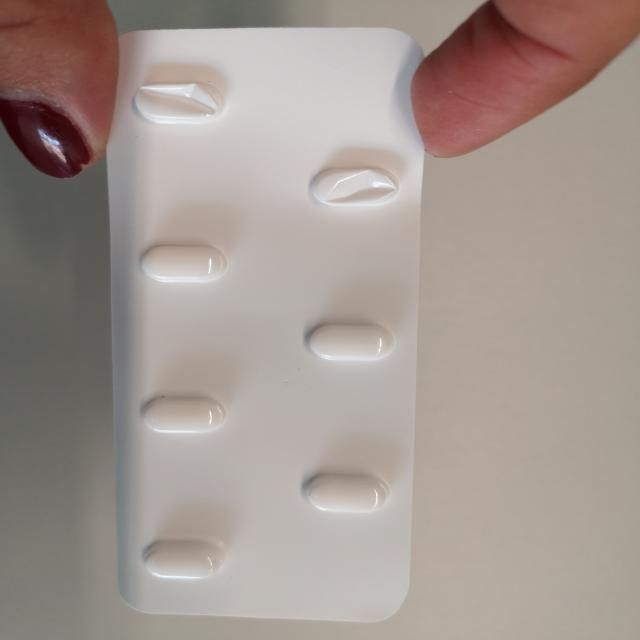Empty: (125, 72, 233, 131), (301, 162, 408, 215)
Pill: (295, 315, 400, 368), (294, 466, 393, 519), (132, 239, 236, 289), (132, 391, 239, 437), (133, 534, 228, 584)
